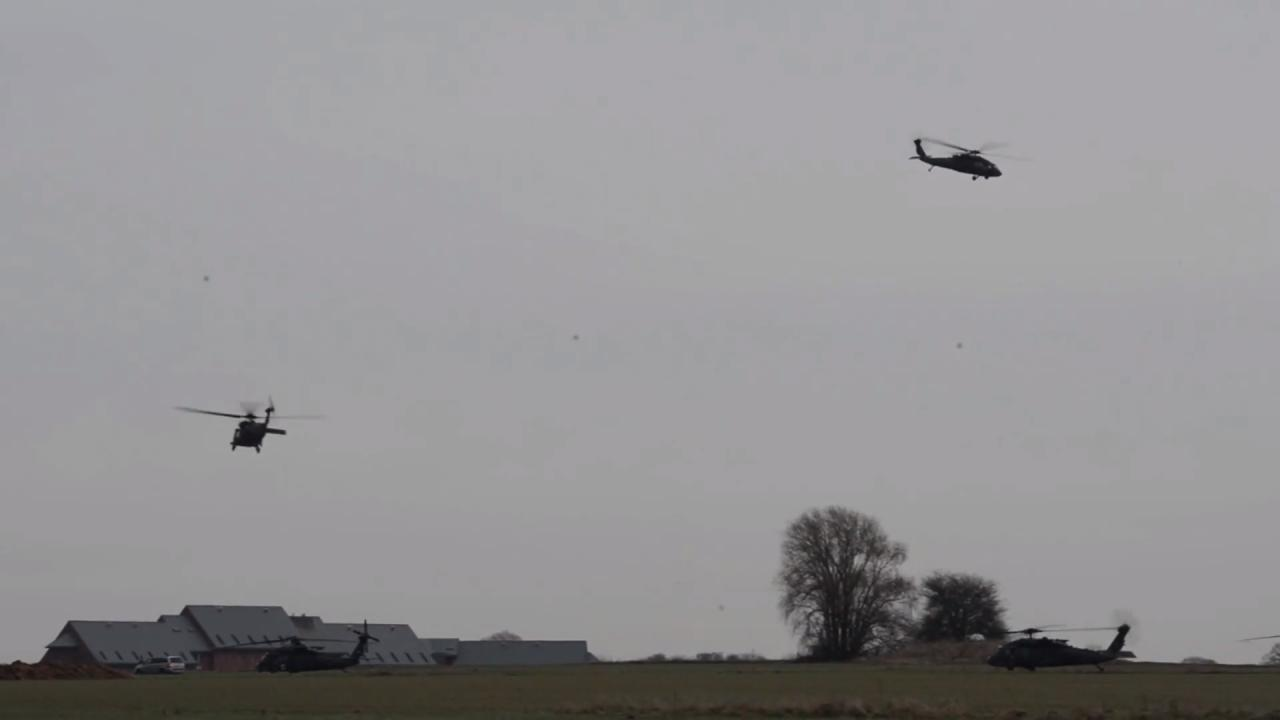Helicopter: (163, 385, 326, 464), (970, 616, 1162, 681), (225, 618, 395, 691), (899, 123, 1018, 196)
